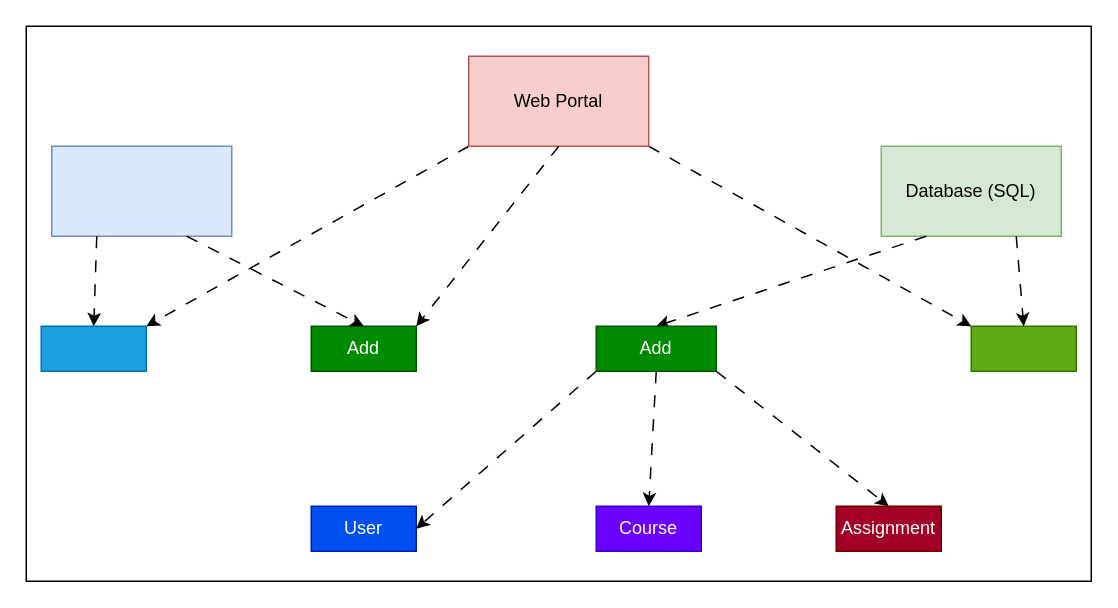
This 1118x608 diagram has some shape labels left out. Each missing label, with the centre of its shape:
Login: [93,348]
Query: [1023,348]
User Managment: [141,190]
